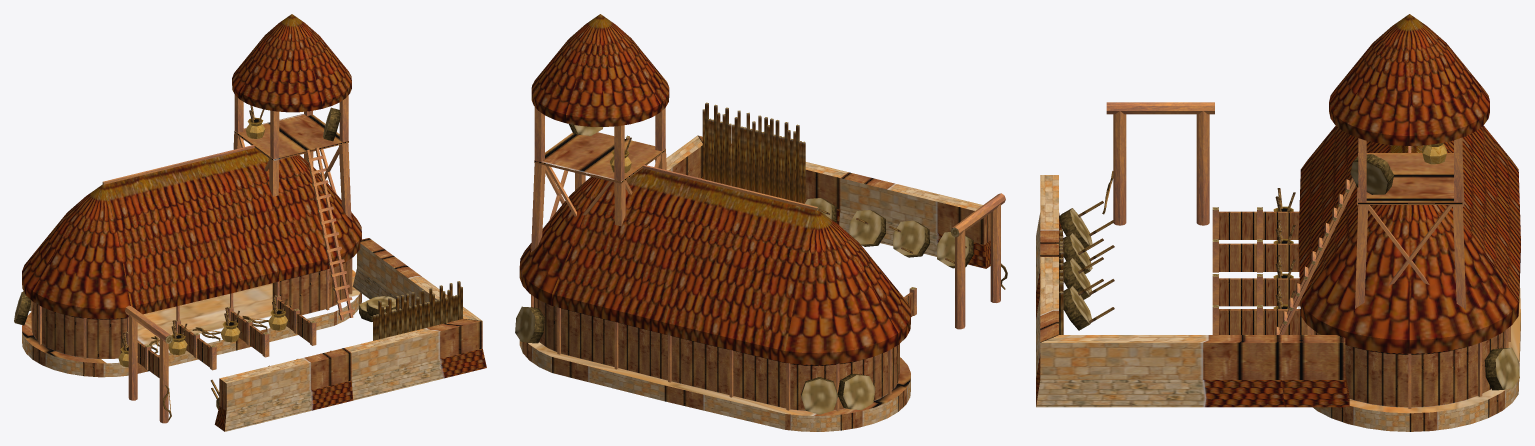
The model's file is range.dae.
3 renders of one model, left to right at view 1: azimuth 30°, elevation 25°; view 2: azimuth 150°, elevation 25°; view 3: azimuth 270°, elevation 25°, orthographic. The views are drawn at different scales.
Parts seen in each view (by area): view 1: range; view 2: range; view 3: range.
Boxes of the visible parts, x1=… form: range: x1=14, y1=14, x2=486, y2=431; range: x1=515, y1=14, x2=1007, y2=431; range: x1=1036, y1=14, x2=1520, y2=431.
Size of the model in its own units: 28 by 27.52 by 23.75.
